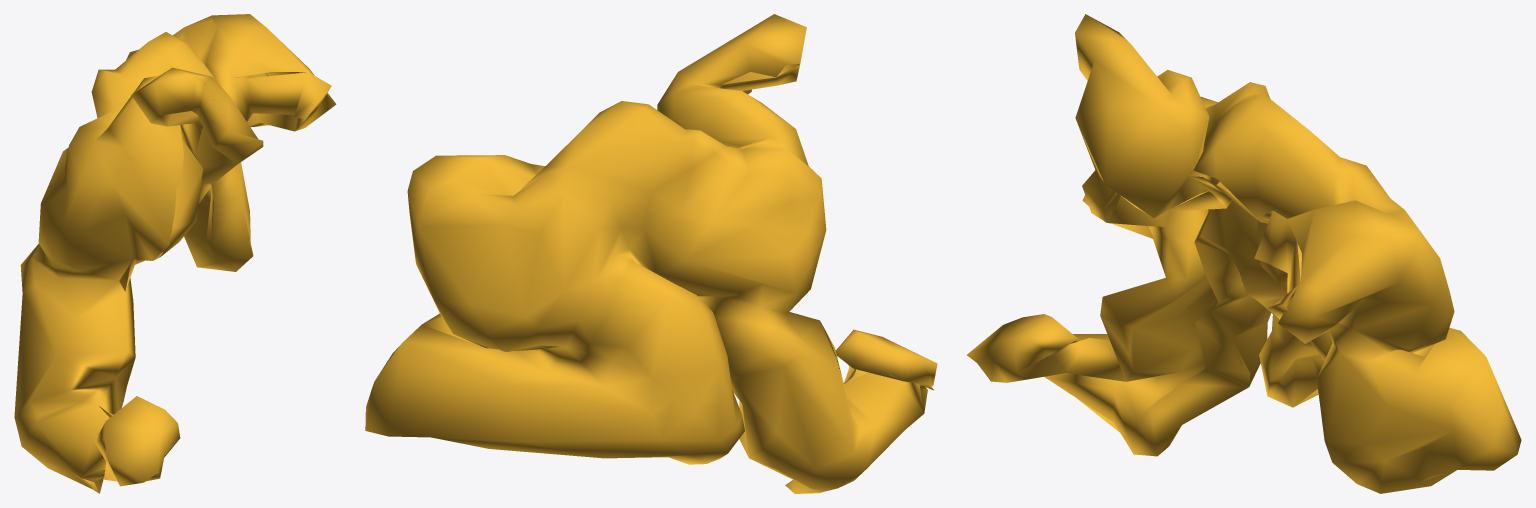
Rendered from nervoso-angular-gyrus-r.glb.
3 renders of one model, left to right at view 1: azimuth 30°, elevation 25°; view 2: azimuth 150°, elevation 25°; view 3: azimuth 270°, elevation 25°, orthographic. The views are drawn at different scales.
Visible parts, largest first — view 1: Angular gyrus.r; view 2: Angular gyrus.r; view 3: Angular gyrus.r.
Part boxes in pixels (left/top/right/bottom): Angular gyrus.r: left=14, top=14, right=336, bottom=493; Angular gyrus.r: left=365, top=14, right=937, bottom=493; Angular gyrus.r: left=967, top=14, right=1521, bottom=493.
Bounding box in the file's own units: 0.043 × 0.0473 × 0.0518.
